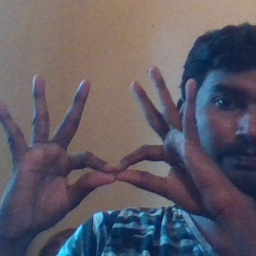B: (38, 114, 185, 213)
